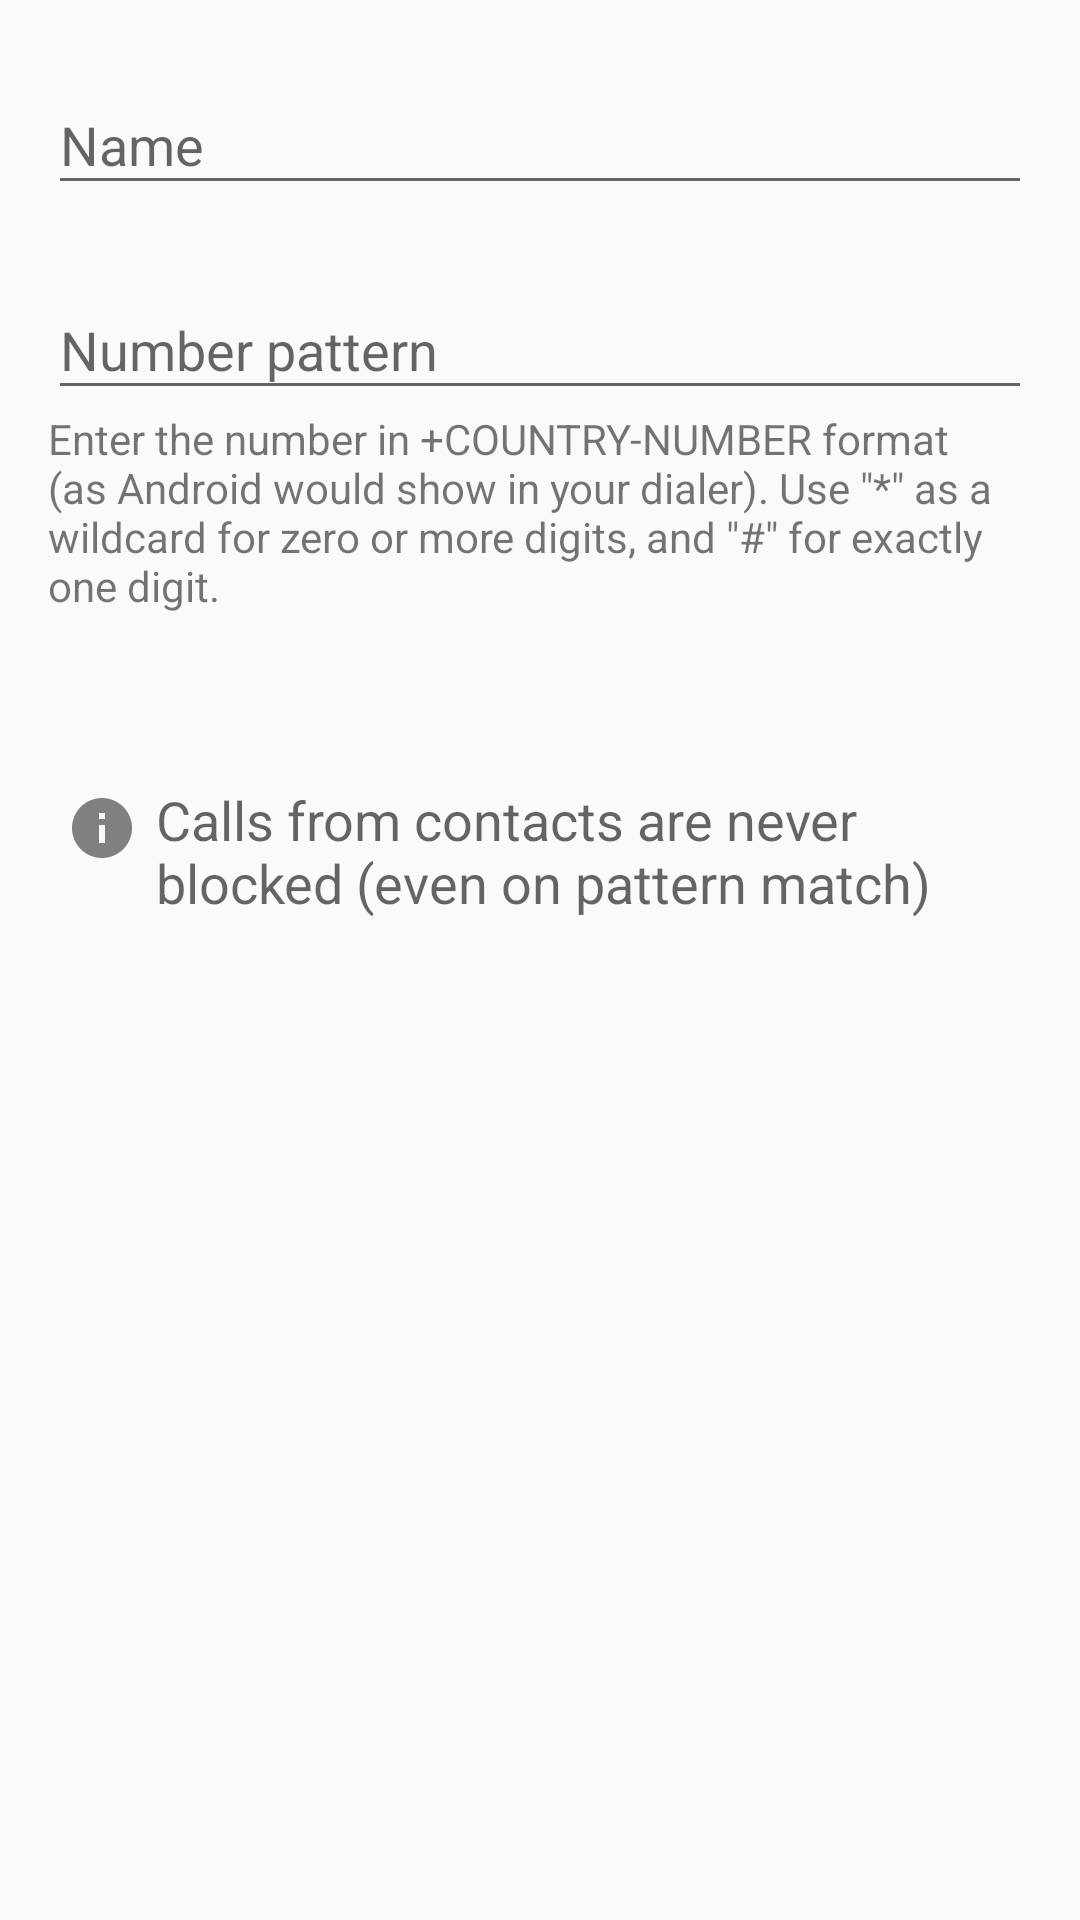

Icons on this 1080*1920 Android screen, each with the point to tap as (x,y):
Info: (102,828)
